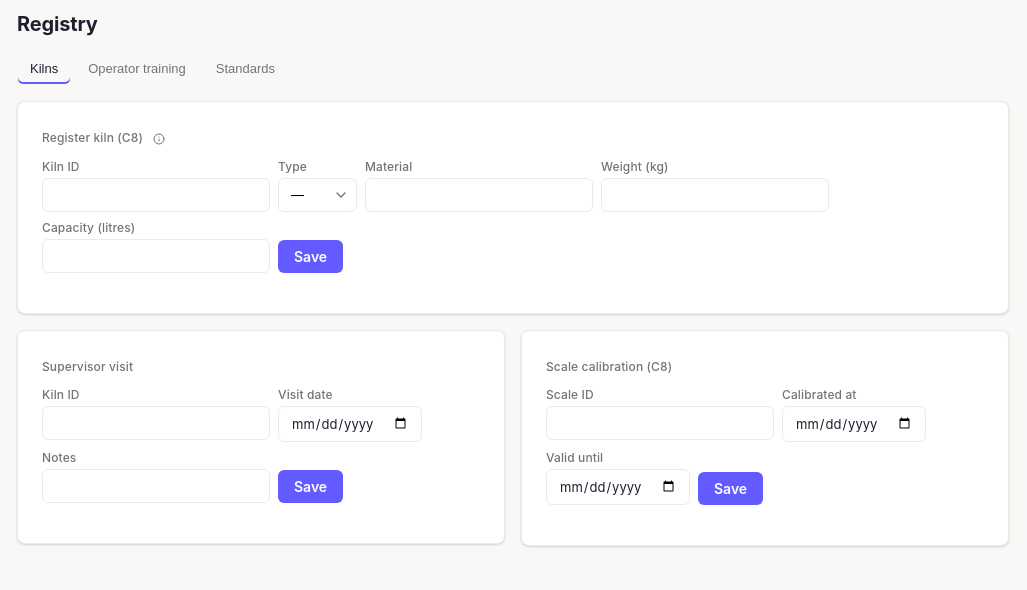
Test: Registry page › renders the kiln form's Save button and a status message after submit, on the reskinned primitives
Type "kiln-42" into the field labelled "Kiln ID" below "Type" at (156, 195), box [42,178,270,212]
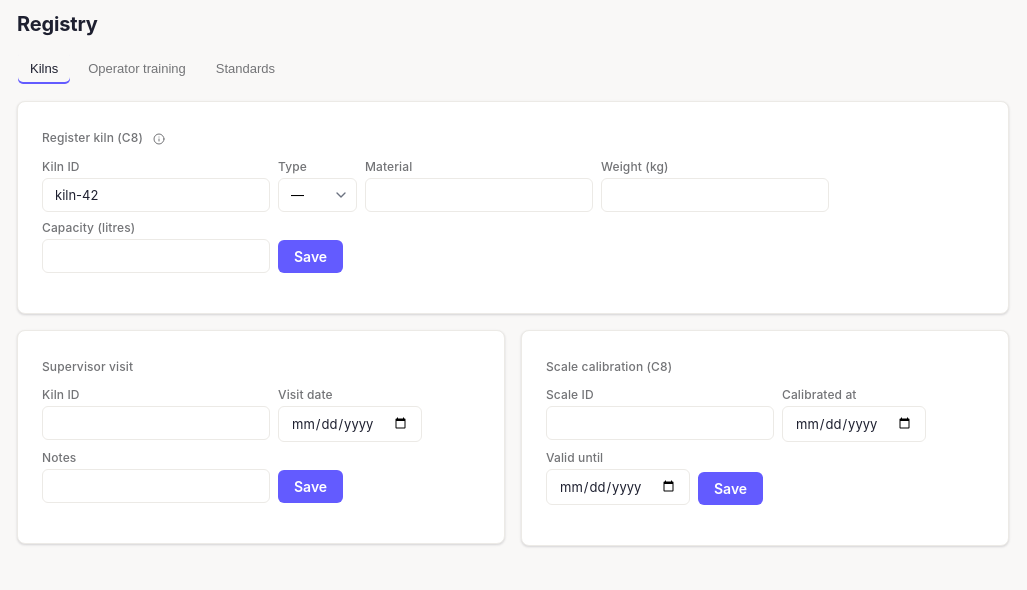
Click the button "Save" below "Capacity (litres)" at (311, 256), box [278,240,343,273]
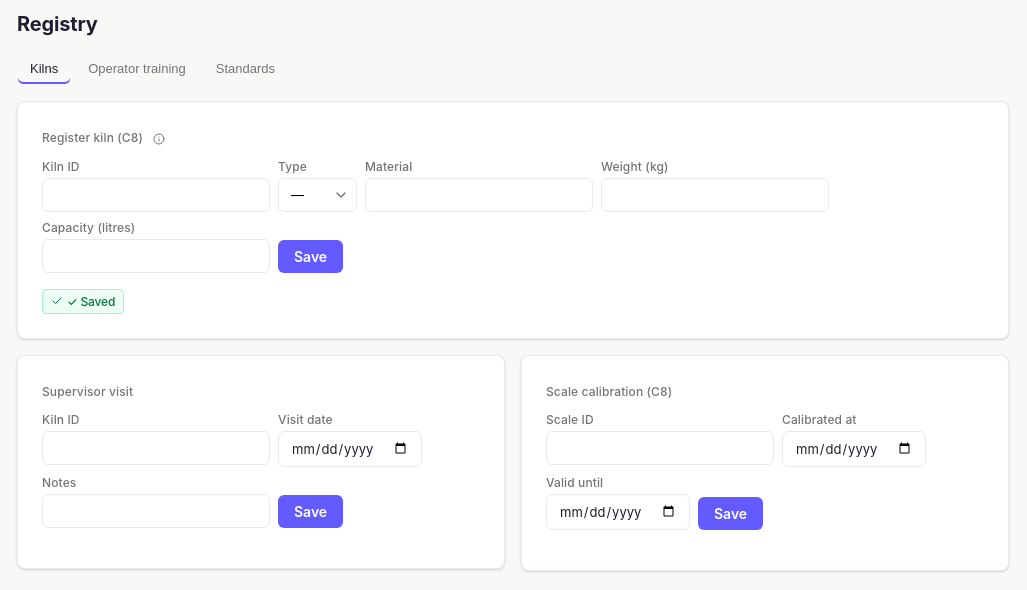
Expected: the text "✓ Saved" is shown, [67,294,115,309]
